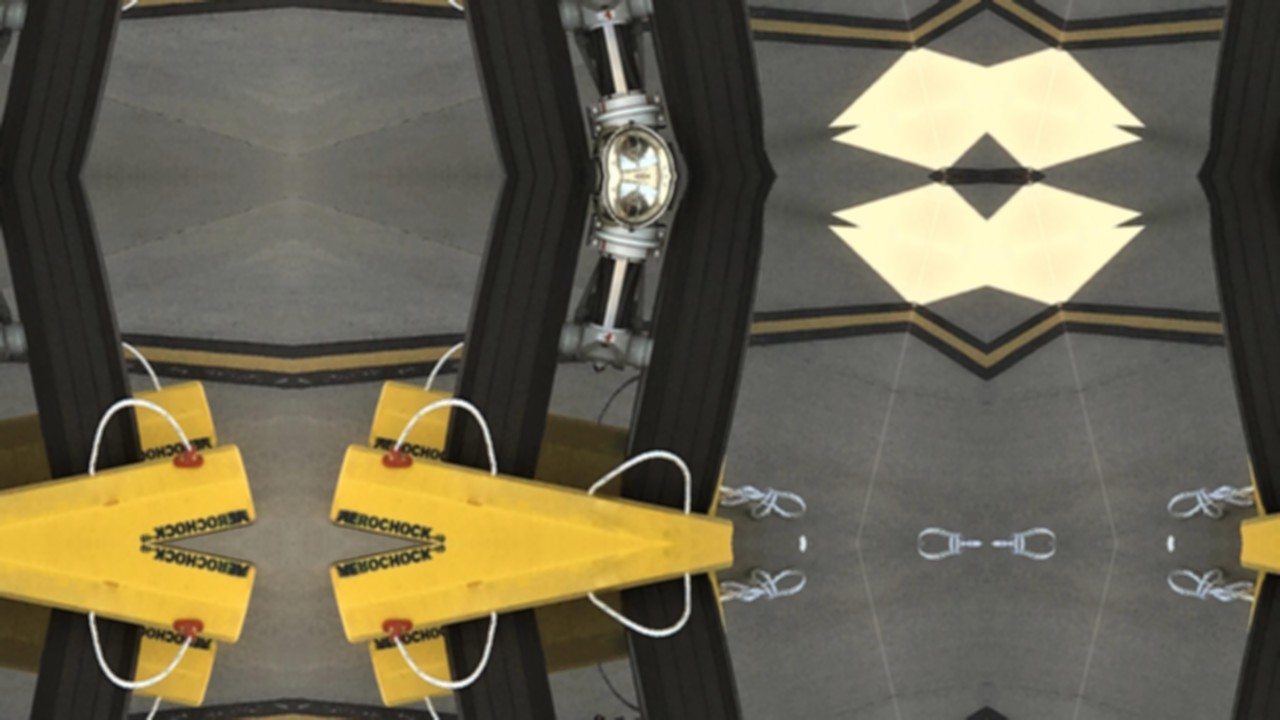chock: (367, 373, 730, 527), (367, 560, 730, 714), (328, 430, 739, 544), (328, 544, 739, 657), (0, 373, 219, 527), (0, 560, 219, 714), (0, 430, 257, 544), (0, 544, 257, 657), (1244, 373, 1280, 527), (1244, 560, 1280, 714), (1235, 430, 1280, 544), (1235, 544, 1280, 657)
wheel: (605, 186, 782, 518), (434, 176, 605, 482), (0, 176, 152, 482), (434, 0, 605, 176), (605, 0, 782, 166), (1192, 186, 1280, 518), (0, 0, 152, 176), (605, 569, 782, 720), (434, 605, 605, 720), (0, 605, 152, 720), (1192, 0, 1280, 166), (1192, 569, 1280, 720)
